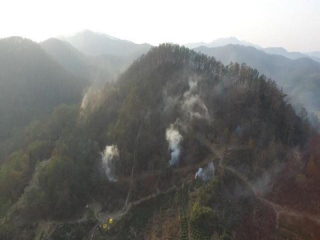smoke: (95, 76, 223, 189)
